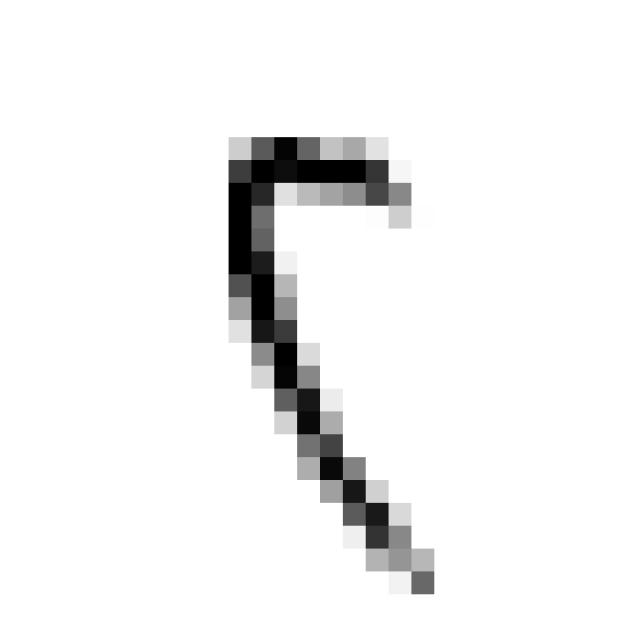2 -two-: (199, 114, 455, 617)
